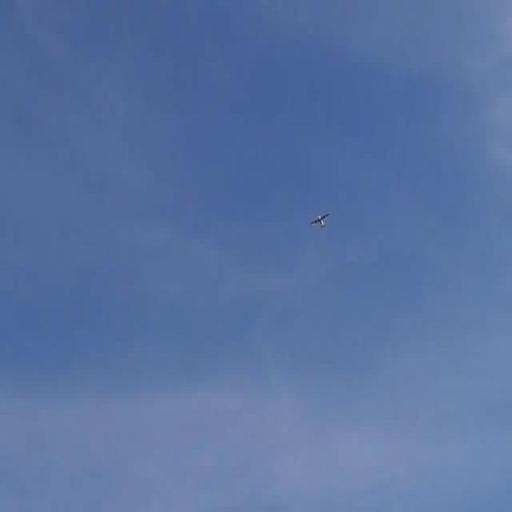uav: (310, 206, 331, 238)
